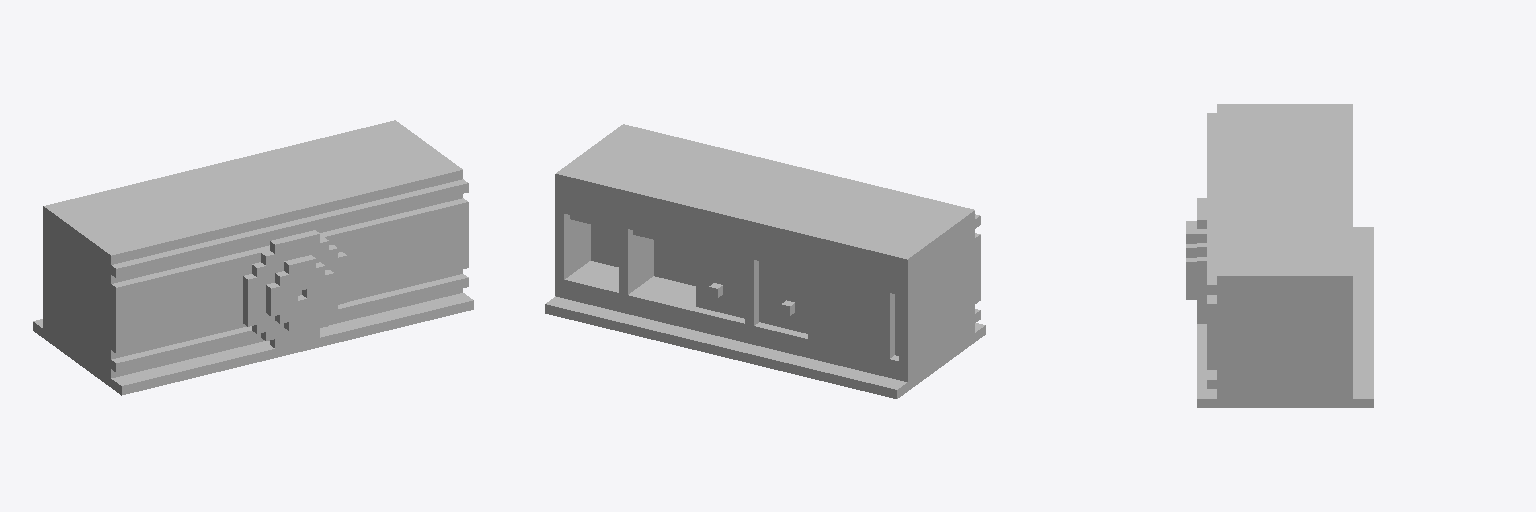
Rendered from desk.obj.
3 views of the same model, side by side, from view 1: azimuth 30°, elevation 25°; view 2: azimuth 150°, elevation 25°; view 3: azimuth 270°, elevation 25° (orthographic).
Parts seen in each view (by area): view 1: desk; view 2: desk; view 3: desk.
Part boxes in pixels (x1,y1,x2,y2): desk: (33,120,473,395); desk: (545,124,985,398); desk: (1186,104,1373,407).
Bounding box in the file's own units: 39 × 14 × 18.